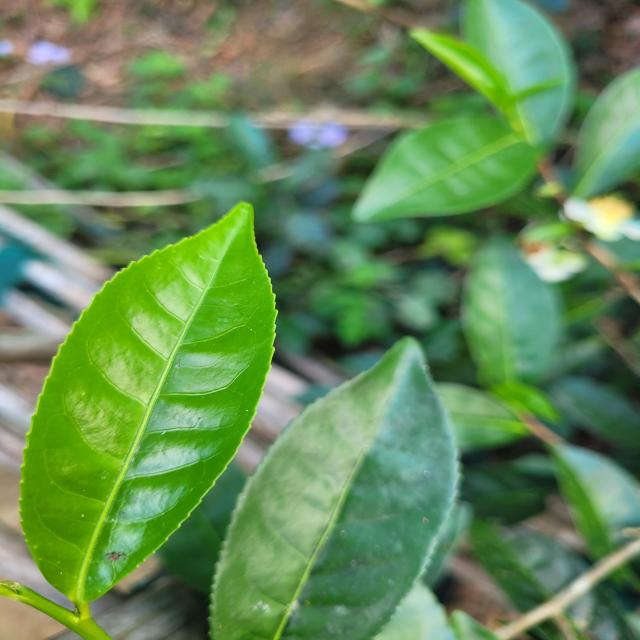Category D(7+ days, Not for Tea): (4, 192, 290, 640)
